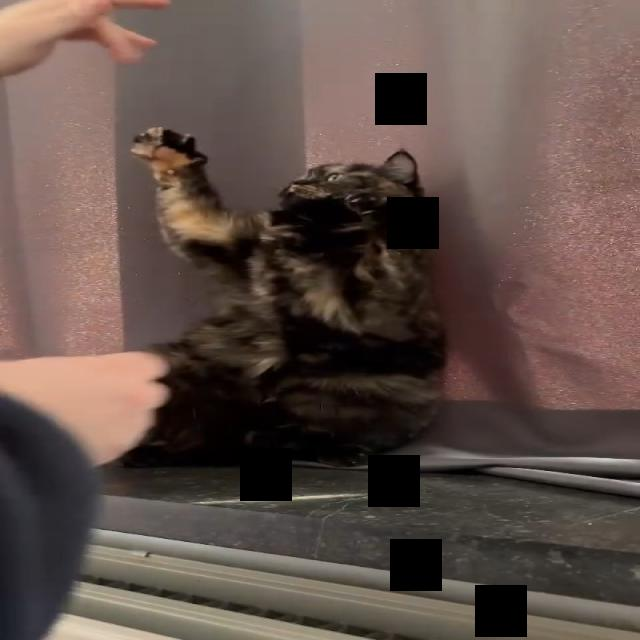authorized: (119, 125, 448, 469)
